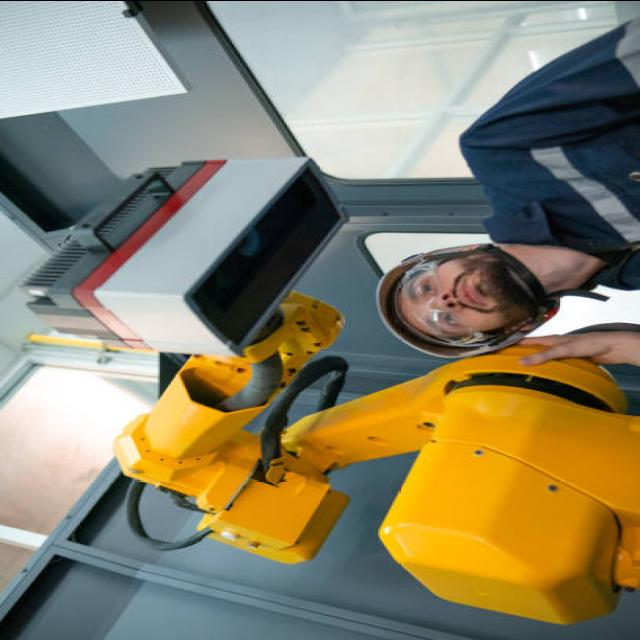Robotic-arm: (105, 301, 640, 623)
